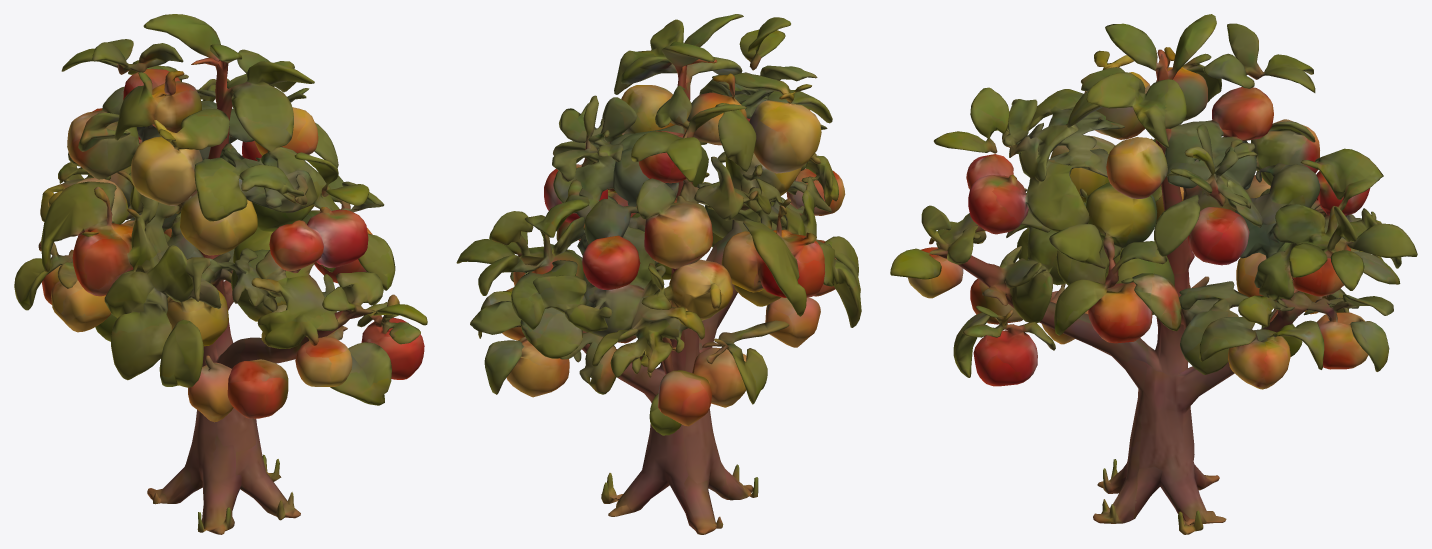
Rendered from orchard_tree.glb.
3 renders of one model, left to right at view 1: azimuth 30°, elevation 25°; view 2: azimuth 150°, elevation 25°; view 3: azimuth 270°, elevation 25°, orthographic. The views are drawn at different scales.
Visible parts, largest first — view 1: tripo_node_3f6b6e51-a145-456d-b4d5-96721cb6e1a4; view 2: tripo_node_3f6b6e51-a145-456d-b4d5-96721cb6e1a4; view 3: tripo_node_3f6b6e51-a145-456d-b4d5-96721cb6e1a4.
Boxes of the visible parts, left/top/right/bottom form: tripo_node_3f6b6e51-a145-456d-b4d5-96721cb6e1a4: left=14, top=14, right=427, bottom=534; tripo_node_3f6b6e51-a145-456d-b4d5-96721cb6e1a4: left=456, top=14, right=861, bottom=534; tripo_node_3f6b6e51-a145-456d-b4d5-96721cb6e1a4: left=890, top=14, right=1417, bottom=534.
Size of the model in its own units: 0.5789 by 0.9252 by 0.945.
1 material, 1 textured.
